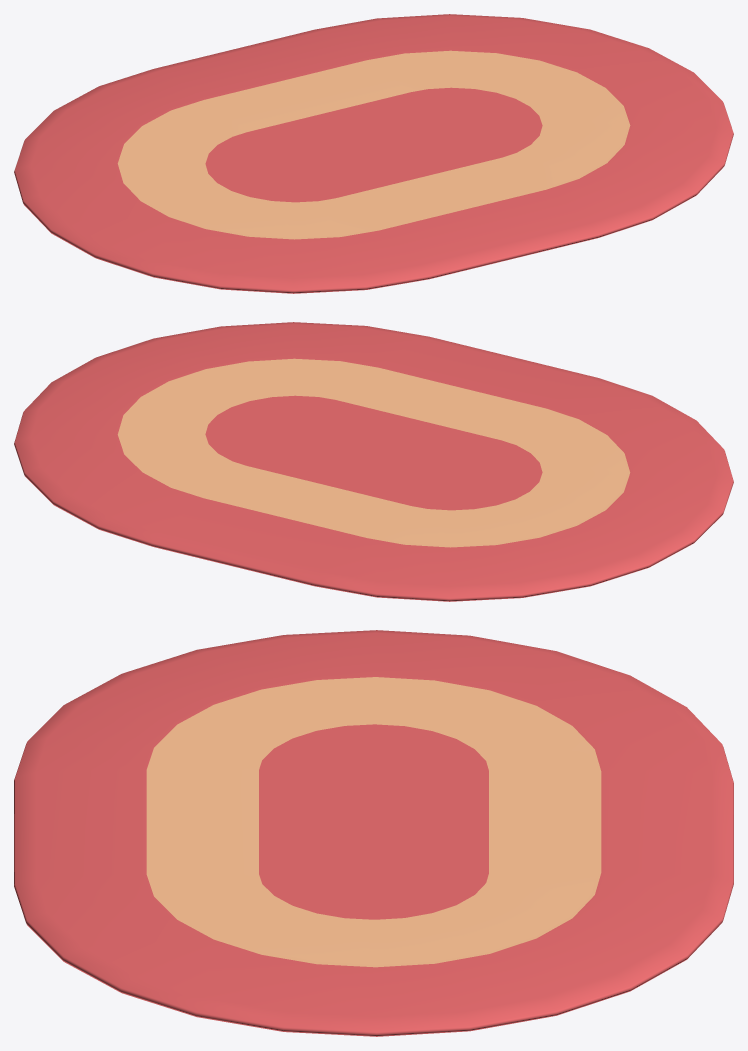
Rendered from Carpet_001.fbx.
3 views of the same model, one above another, from view 1: azimuth 30°, elevation 25°; view 2: azimuth 150°, elevation 25°; view 3: azimuth 270°, elevation 25° (orthographic). The views are drawn at different scales.
Parts seen in each view (by area): view 1: Carpet_001; view 2: Carpet_001; view 3: Carpet_001.
Part boxes in pixels (x1,y1,x2,y2): Carpet_001: (14, 14, 733, 293); Carpet_001: (14, 322, 733, 601); Carpet_001: (14, 630, 733, 1036).
Bounding box in the file's own units: 2.05 × 0.0366 × 1.55.
